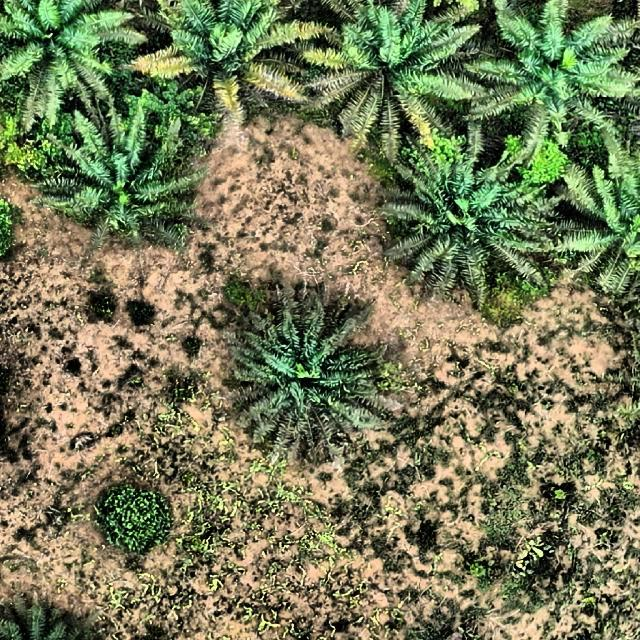Kelapa_Sawit: (224, 290, 398, 450), (326, 3, 468, 149), (145, 0, 311, 114), (59, 112, 192, 252), (500, 2, 628, 138), (1, 0, 140, 119), (572, 150, 640, 311)
